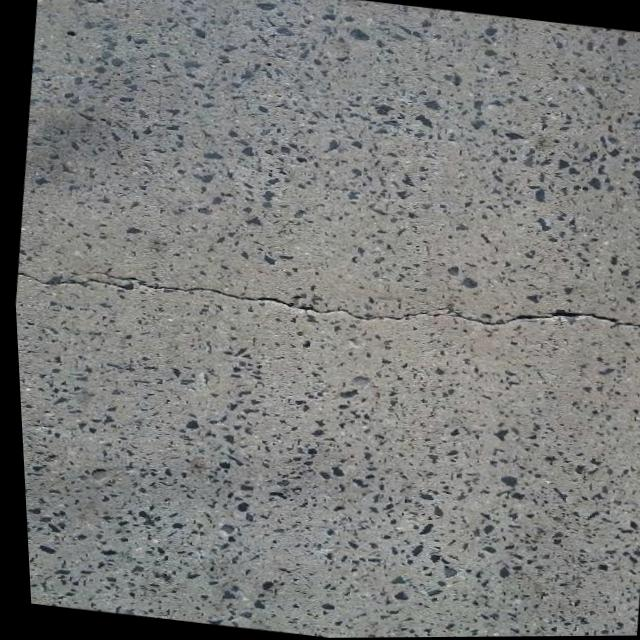Crack: (12, 232, 640, 363)
